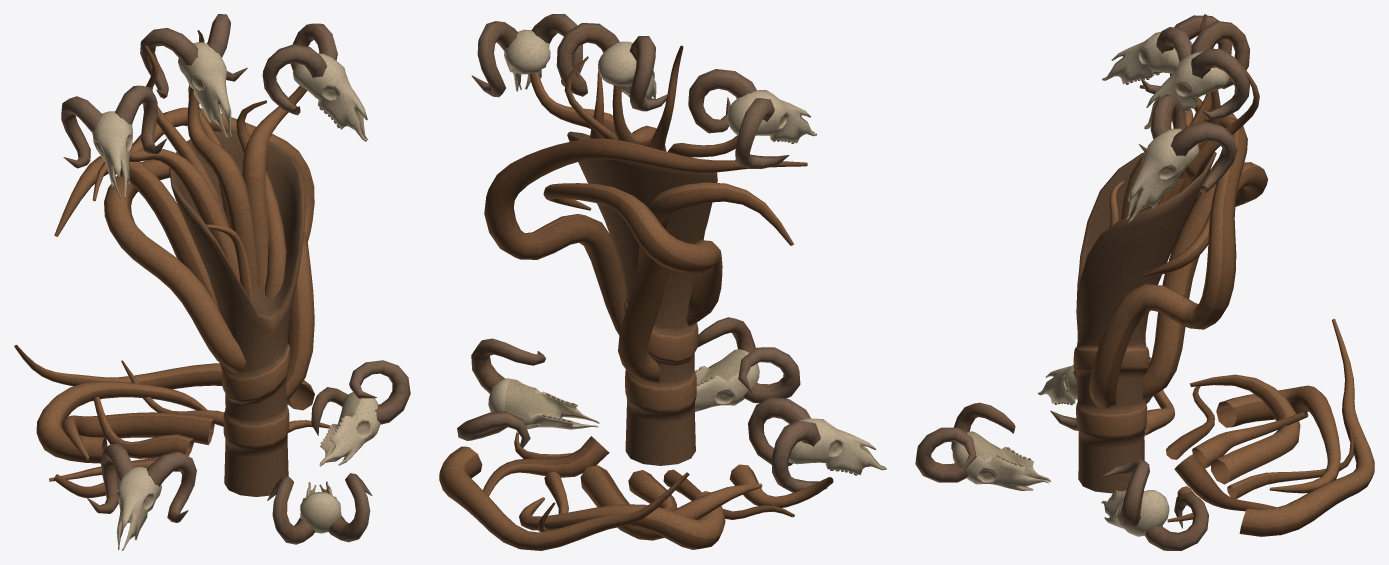
Rendered from totem.fbx.
3 renders of one model, left to right at view 1: azimuth 30°, elevation 25°; view 2: azimuth 150°, elevation 25°; view 3: azimuth 270°, elevation 25°, orthographic. The views are drawn at different scales.
Visible parts, largest first — view 1: Totem_0%, Totem_100%; view 2: Totem_0%, Totem_100%; view 3: Totem_0%, Totem_100%.
Boxes of the visible parts, x1,y1,x2,y2 form: Totem_0%: (14, 131, 410, 550); Totem_100%: (54, 14, 367, 264); Totem_0%: (439, 131, 886, 550); Totem_100%: (471, 14, 816, 275); Totem_0%: (915, 151, 1374, 550); Totem_100%: (1102, 14, 1267, 309).
Bounding box in the file's own units: 1.4 × 1.58 × 1.67.
